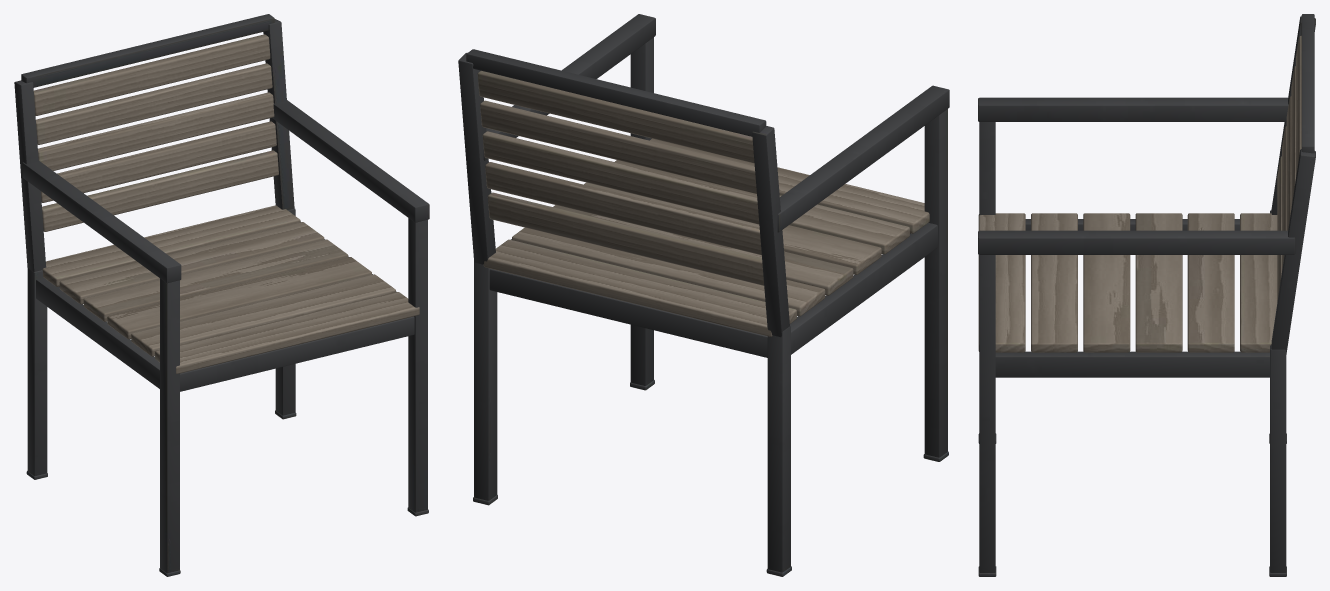
File: w51bchair.glb
3 renders of one model, left to right at view 1: azimuth 30°, elevation 25°; view 2: azimuth 150°, elevation 25°; view 3: azimuth 270°, elevation 25°, orthographic. The views are drawn at different scales.
Visible parts, largest first — view 1: balcchair; view 2: balcchair; view 3: balcchair.
Part boxes in pixels (left/top/right/bottom): balcchair: left=14, top=14, right=429, bottom=576; balcchair: left=458, top=14, right=949, bottom=576; balcchair: left=978, top=14, right=1315, bottom=576.
Bounding box in the file's own units: 0.5654 × 0.8 × 0.5732.
1 material, 1 textured.
